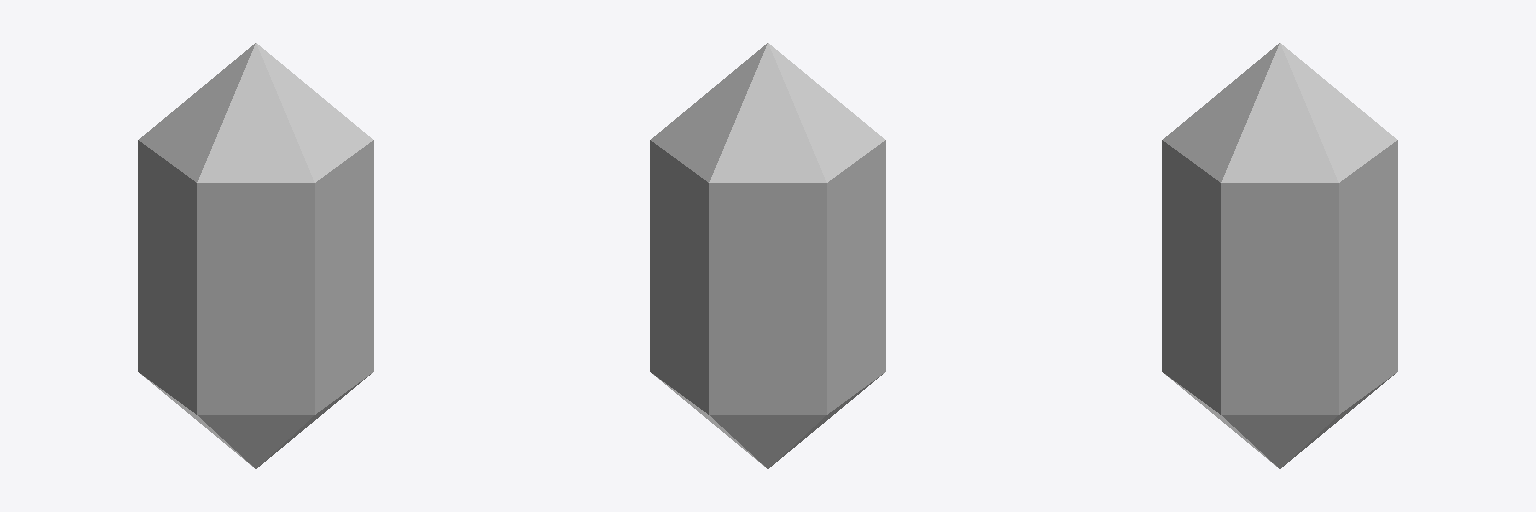
File: Crystal.obj
3 renders of one model, left to right at view 1: azimuth 30°, elevation 25°; view 2: azimuth 150°, elevation 25°; view 3: azimuth 270°, elevation 25°, orthographic.
Visible parts, largest first — view 1: Cylinder; view 2: Cylinder; view 3: Cylinder.
Part boxes in pixels (bbox=[...]): Cylinder: bbox=[138, 43, 373, 468]; Cylinder: bbox=[650, 43, 885, 468]; Cylinder: bbox=[1162, 43, 1397, 468].
Bounding box in the file's own units: 0.866 × 2 × 1.